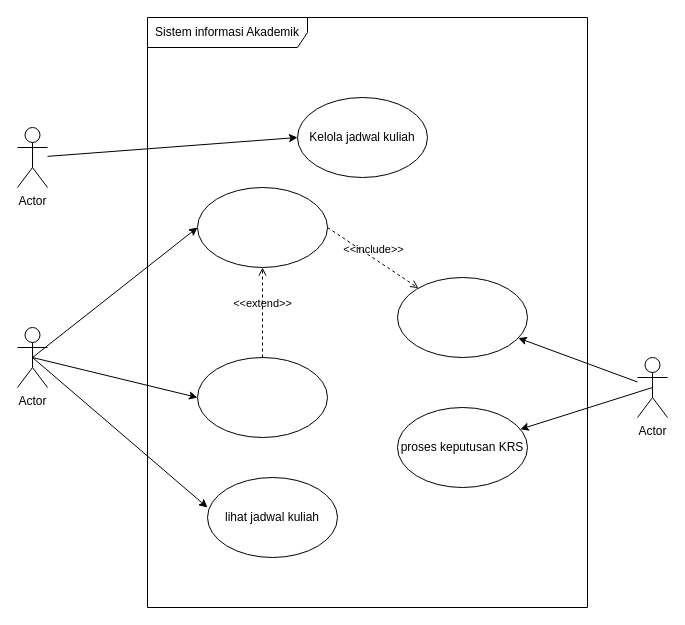
Image size: 685x625. Some labels were removed from this diagram. The shapes that lost their labels are listed below. From the top down, each one's box as (x1, y1, x2, y2) in pixels, then its label:
(196, 186, 328, 268): Ajukan KRS
(396, 276, 528, 358): validasi KRS
(196, 356, 328, 438): unduh bukti pengajuan KRS
